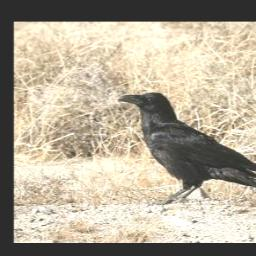Crow: (117, 91, 256, 204)
